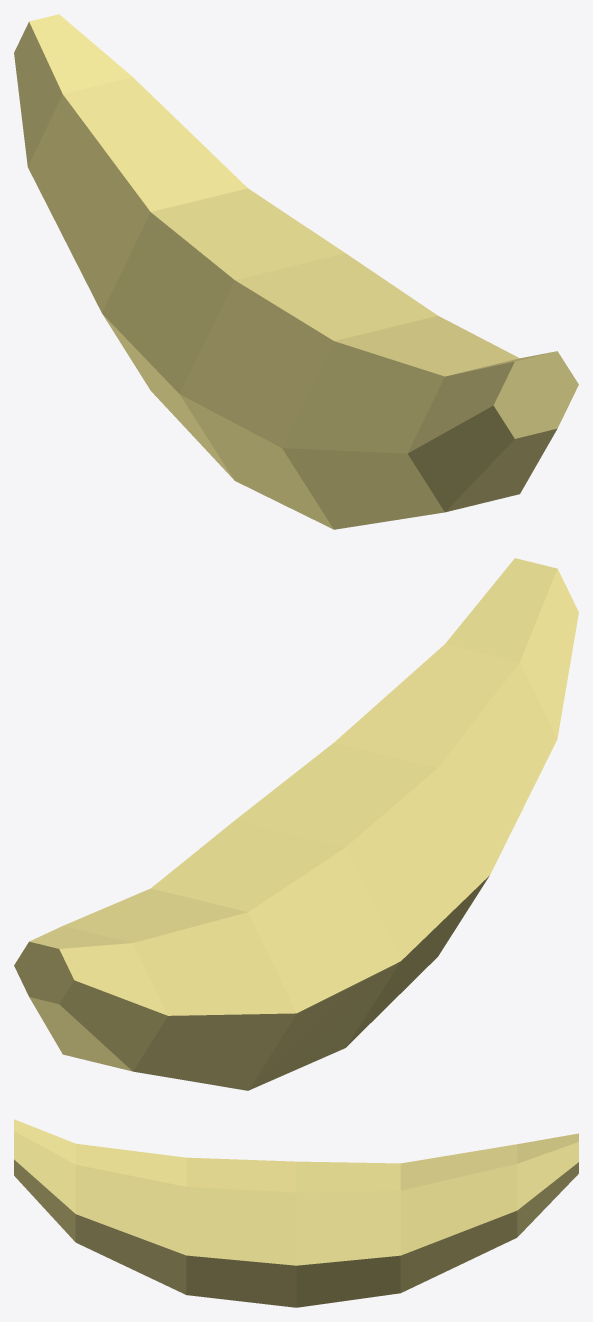
Rendered from peeledBanana.obj.
3 views of the same model, one above another, from view 1: azimuth 30°, elevation 25°; view 2: azimuth 150°, elevation 25°; view 3: azimuth 270°, elevation 25° (orthographic). The views are drawn at different scales.
Visible parts, largest first — view 1: banana; view 2: banana; view 3: banana.
Part boxes in pixels (<box>): banana: <box>14,14,578,529</box>; banana: <box>14,558,578,1090</box>; banana: <box>14,1119,578,1307</box>.
Size of the model in its own units: 0.1304 by 0.1638 by 0.5017.
